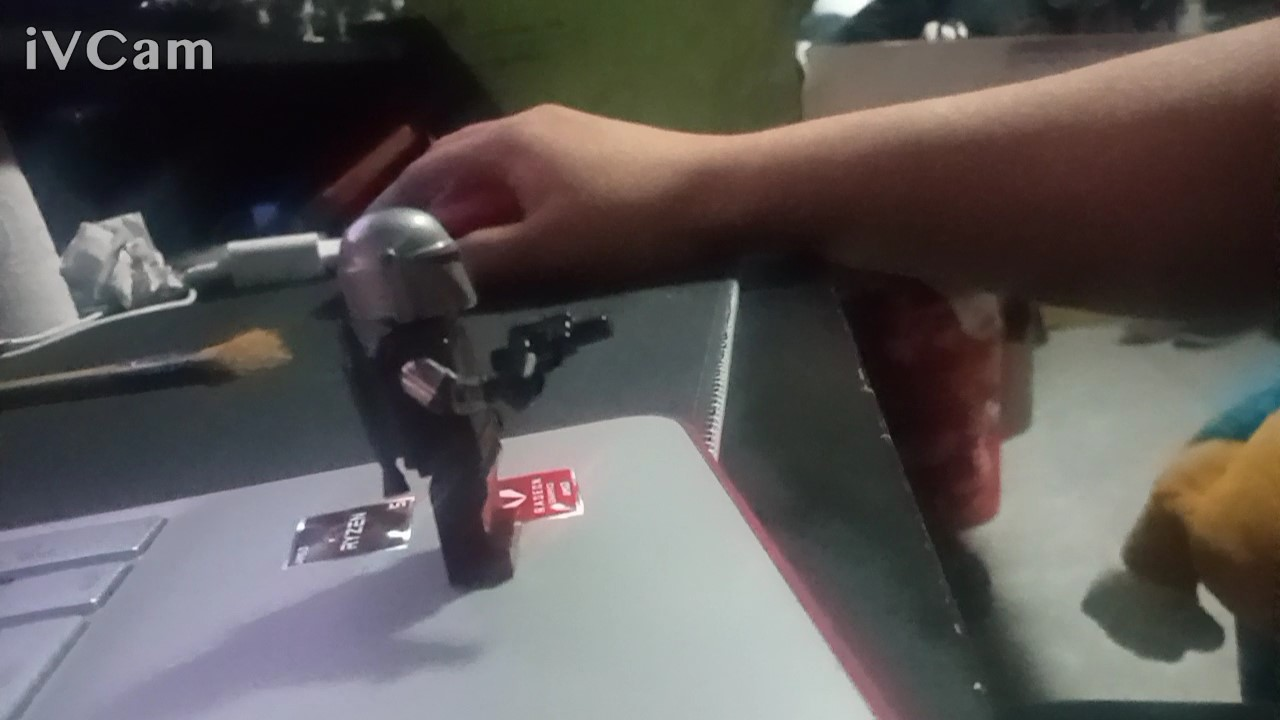mandalorian: (306, 205, 617, 596)
